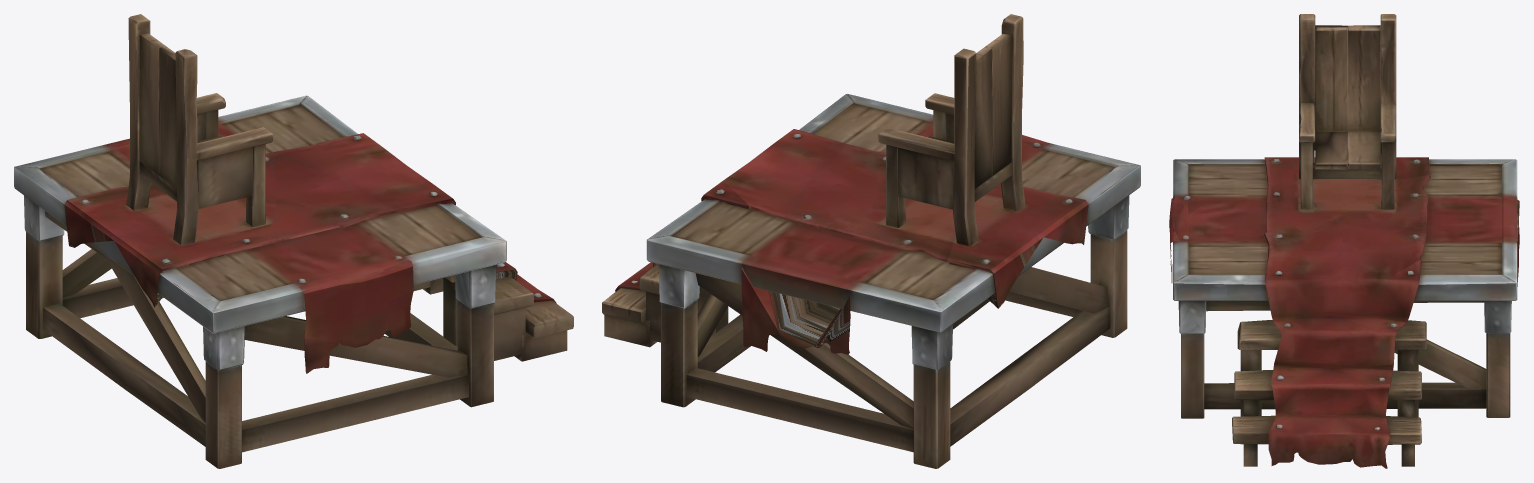
File: obj_wooden_dais.glb
3 views of the same model, side by side, from view 1: azimuth 30°, elevation 25°; view 2: azimuth 150°, elevation 25°; view 3: azimuth 270°, elevation 25° (orthographic). The views are drawn at different scales.
Parts seen in each view (by area): view 1: model; view 2: model; view 3: model.
Part boxes in pixels (x1,y1,x2,y2): model: [14, 14, 573, 468]; model: [602, 14, 1140, 468]; model: [1169, 14, 1519, 468].
Bounding box in the file's own units: 1.17 × 1 × 1.04.
Materials: 1 (1 with a texture image).
